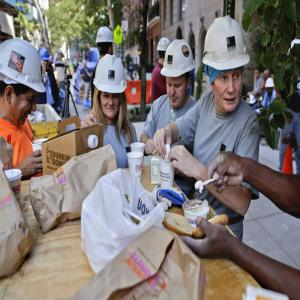blue: (38, 47, 50, 71)
none: (263, 70, 272, 82), (255, 69, 261, 80)
white: (201, 13, 249, 112), (1, 37, 43, 130), (92, 54, 129, 122), (163, 41, 198, 111), (97, 25, 115, 57), (157, 37, 172, 64), (266, 77, 276, 96), (57, 50, 65, 61)
